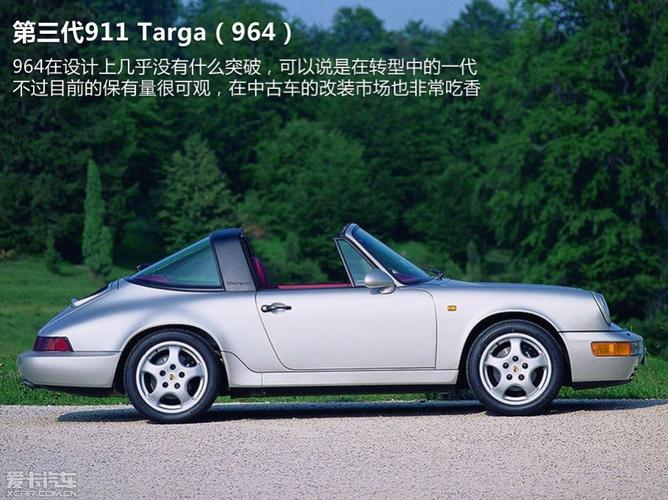汽车: (15, 210, 654, 419)
